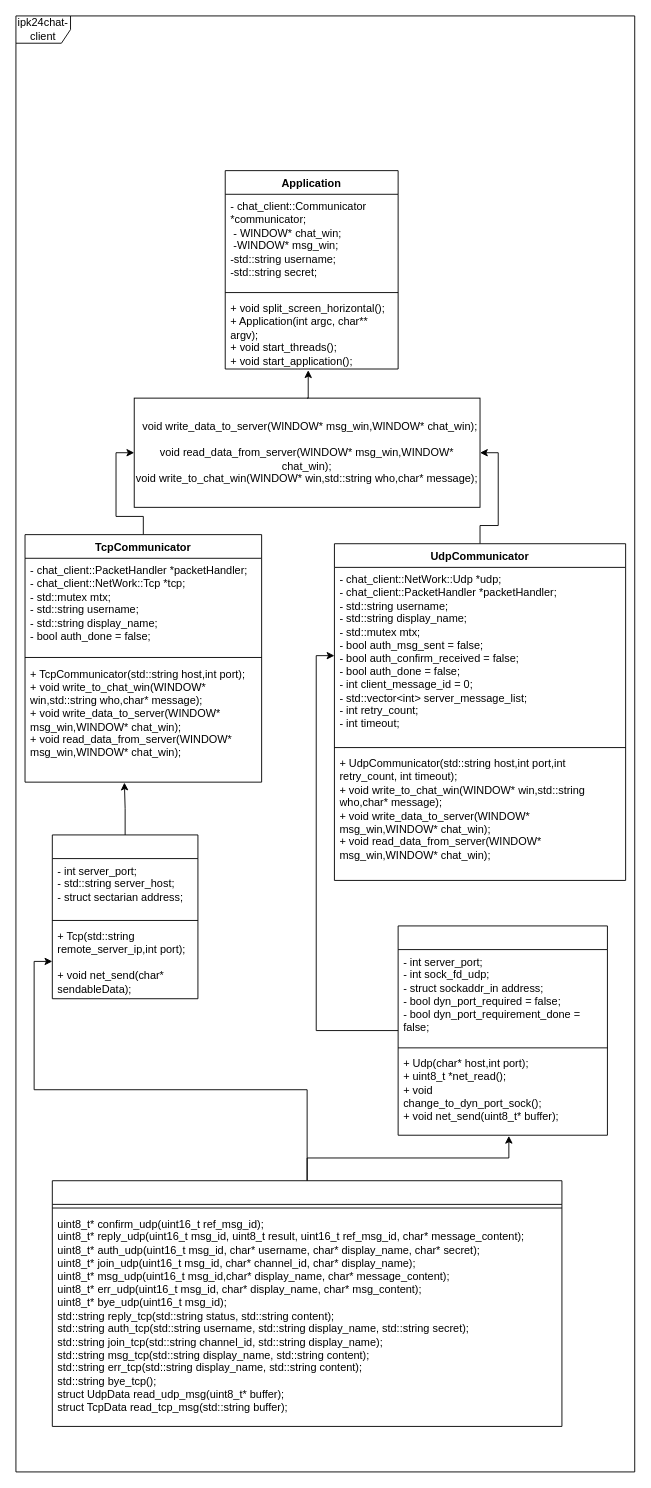
The diagram is 651 pixels wide and 1488 high, and some of its shapes have lost their labels. The shapes that lost their labels are listed below. From the top down, each one's box as (x1, y1, x2, y2) in pixels, then its label:
(51, 834, 198, 999): Network::Tcp
(397, 925, 607, 1135): Network::Udp
(51, 1180, 562, 1426): PacketHandler
